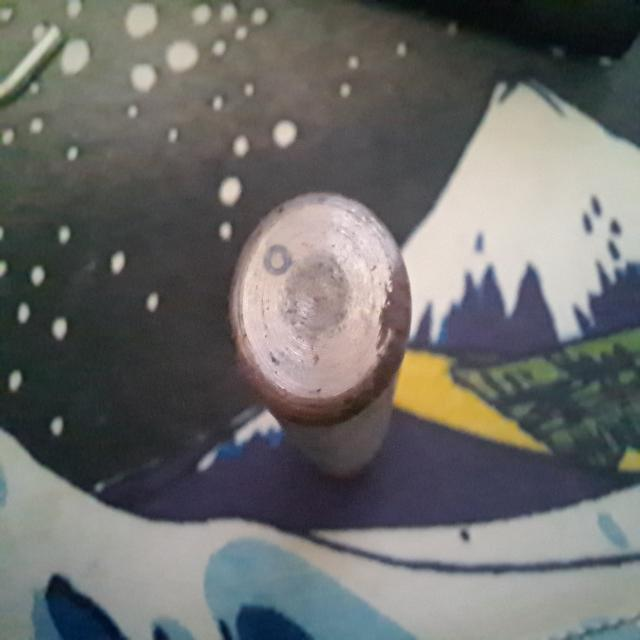defect: (261, 243, 292, 276)
planson: (228, 189, 410, 477)
